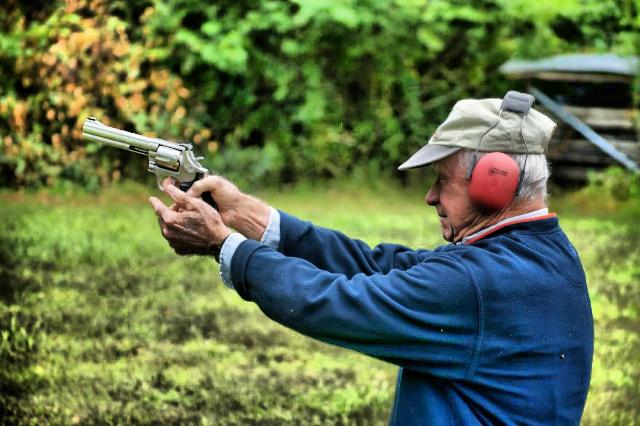pistol: (78, 112, 228, 264)
